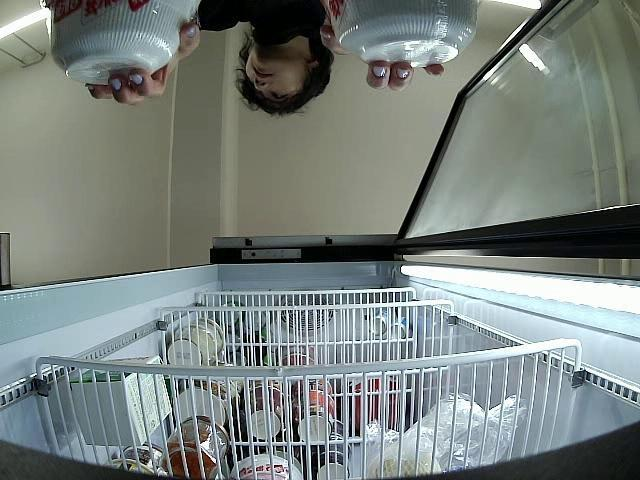09_yukGaeJang: (36, 0, 200, 87), (322, 0, 479, 69)
